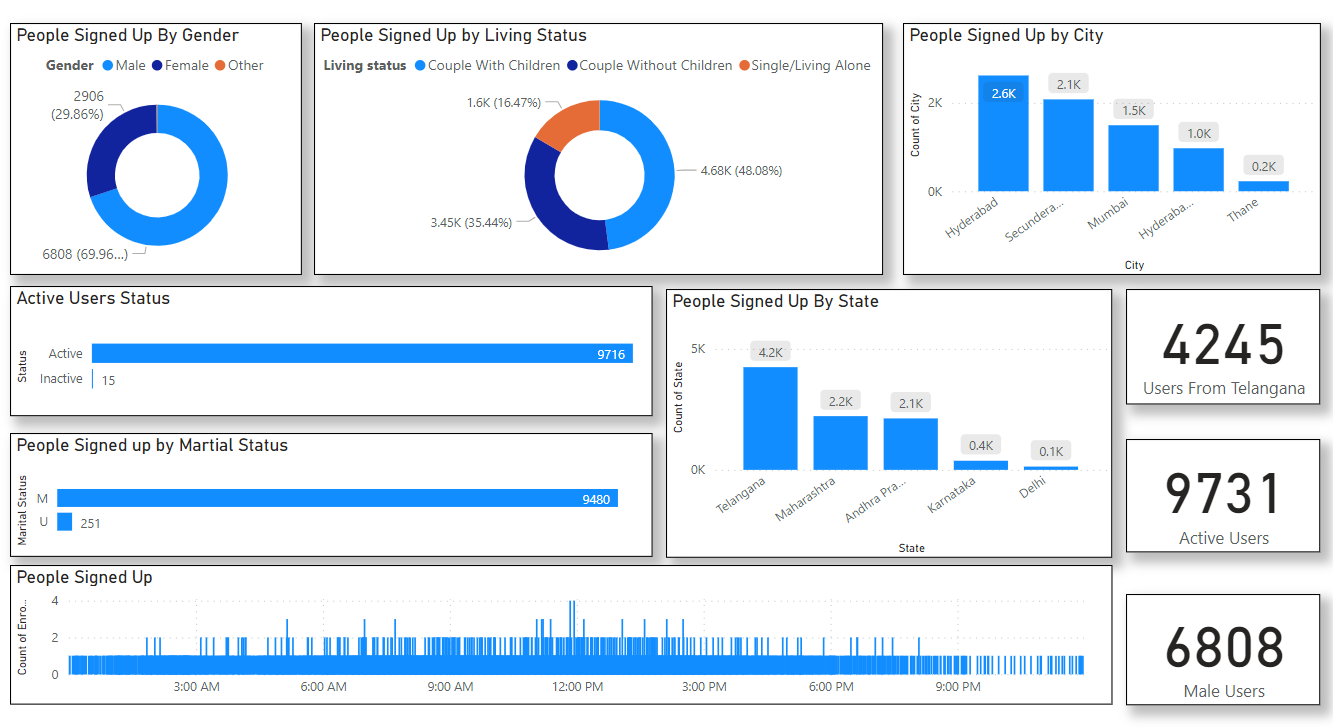

What the dashboard file says about the page in this screenshot:
{"tool":"powerbi","page":{"name":"Dashboard","canvas":[1280,720],"ordinal":3},"visuals":[{"type":"donutChart","title":"People Signed Up By Gender","fields":{"Category":["Email Marketing.Gender"],"Y":["CountNonNull(Email Marketing.Gender)"]},"box":[17.2,30.8,278.4,240.2],"z":0},{"type":"donutChart","title":"People Signed Up by Living Status","fields":{"Category":["Email Marketing.Living status"],"Y":["CountNonNull(Email Marketing.Living status)"]},"box":[306.8,30.8,542.1,240.2],"z":1},{"type":"columnChart","title":"People Signed Up by City","fields":{"Category":["Email Marketing.City"],"Y":["CountNonNull(Email Marketing.City)"]},"box":[867.3,30.8,397.9,240.2],"z":2},{"type":"barChart","title":"Active Users Status","fields":{"Category":["Email Marketing.Status"],"Y":["CountNonNull(Email Marketing.Status)"]},"box":[17.2,280.9,612.3,124.4],"z":3},{"type":"barChart","title":"People Signed up by Martial Status","fields":{"Category":["Email Marketing.Marital Status"],"Y":["CountNonNull(Email Marketing.Marital Status)"]},"box":[17.2,421.3,612.3,118.3],"z":4},{"type":"columnChart","title":"People Signed Up By State","fields":{"Category":["Email Marketing.State"],"Y":["CountNonNull(Email Marketing.State)"]},"box":[641.8,283.3,425,256.2],"z":5},{"type":"card","title":"Active Users","fields":{"Values":["CountNonNull(Email Marketing.Status)"]},"box":[1080.4,427,184.8,108.4],"z":6},{"type":"card","title":"Active Users","fields":{"Values":["CountNonNull(Email Marketing.State)"]},"box":[1080.4,283.3,184.8,109.6],"z":7},{"type":"card","title":"Active Users","fields":{"Values":["CountNonNull(Email Marketing.Gender)"]},"box":[1080.4,574.1,184.8,105.9],"z":8},{"type":"columnChart","title":"People Signed Up","fields":{"Category":["Email Marketing.Enrolled on Time"],"Y":["CountNonNull(Email Marketing.Enrolled on Time)"]},"box":[17.2,547,1049.6,133.1],"z":9}]}

Visuals, with their boxes in screenshot pixels (x1, y1, x2, y2):
"People Signed Up By Gender" donutChart: [28, 28, 315, 276]
"People Signed Up by Living Status" donutChart: [326, 28, 885, 276]
"People Signed Up by City" columnChart: [904, 28, 1314, 276]
"Active Users Status" barChart: [28, 286, 659, 414]
"People Signed up by Martial Status" barChart: [28, 431, 659, 552]
"People Signed Up By State" columnChart: [672, 288, 1109, 552]
"Active Users" card: [1123, 436, 1314, 548]
"Active Users" card: [1123, 288, 1314, 401]
"Active Users" card: [1123, 588, 1314, 697]
"People Signed Up" columnChart: [28, 560, 1109, 697]
